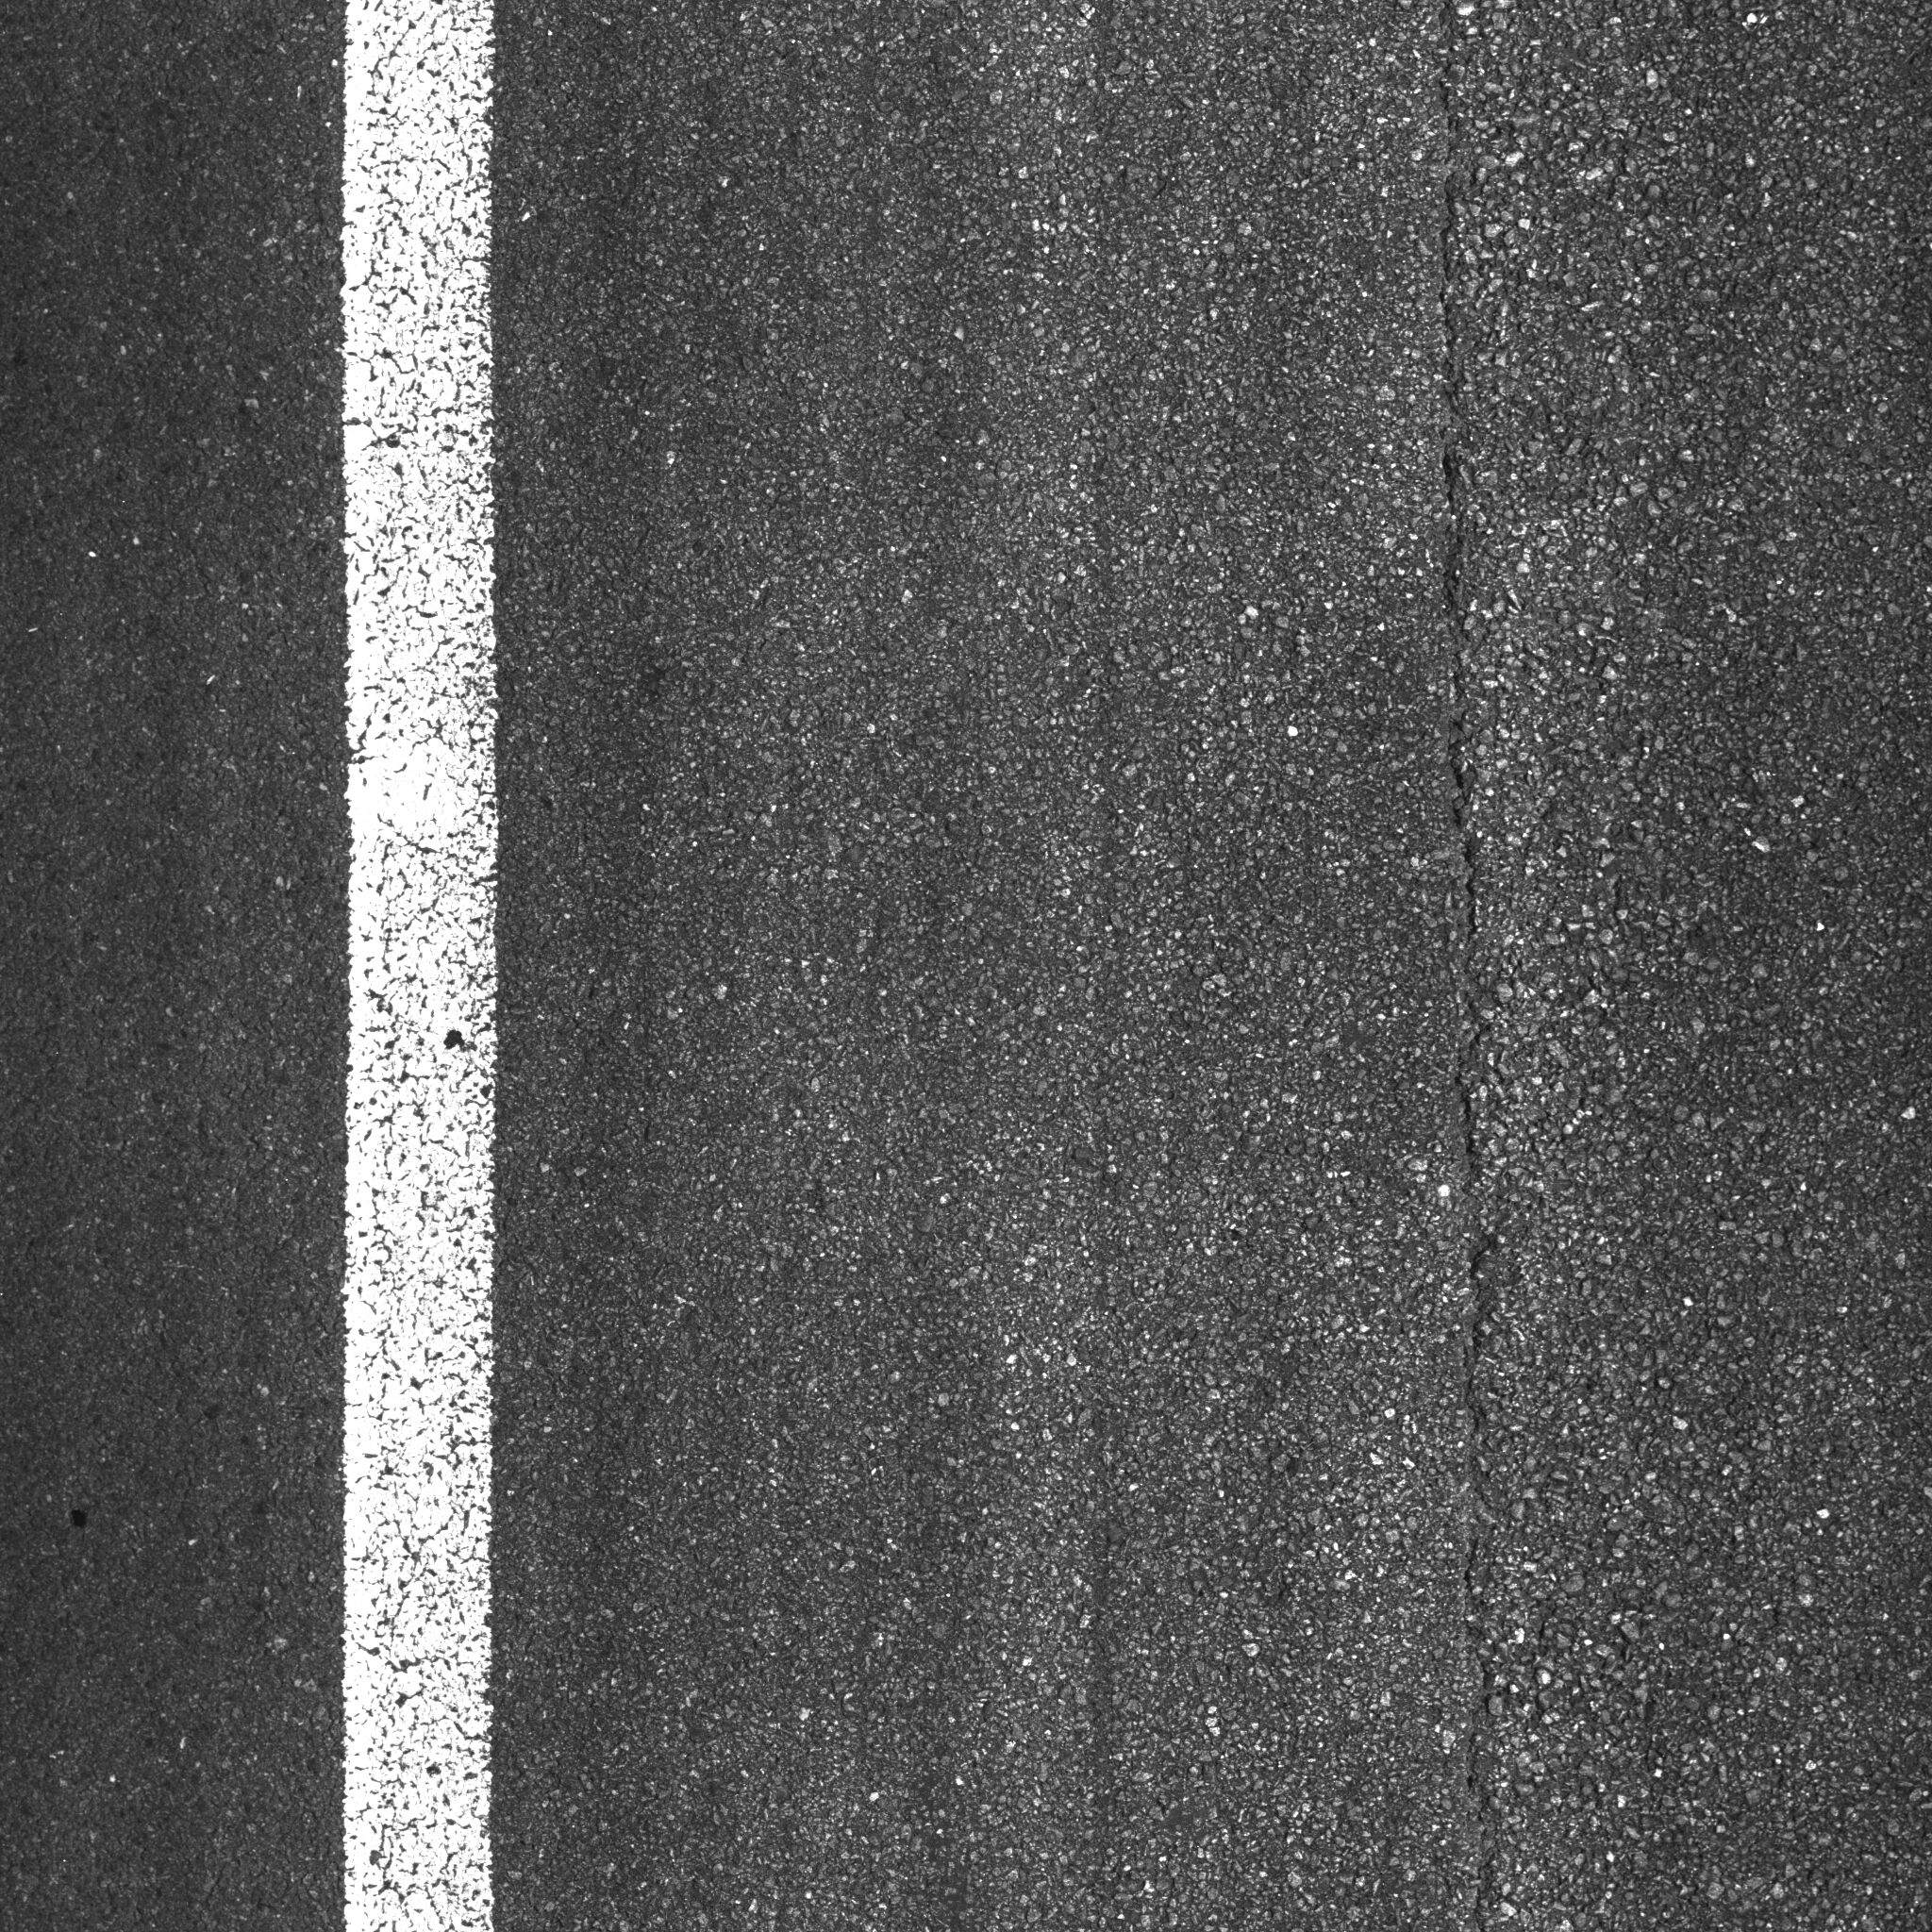longitudinal: (1376, 12, 1591, 1911)
